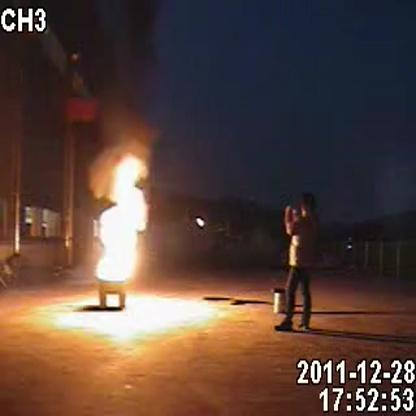Fire: (96, 157, 152, 283)
